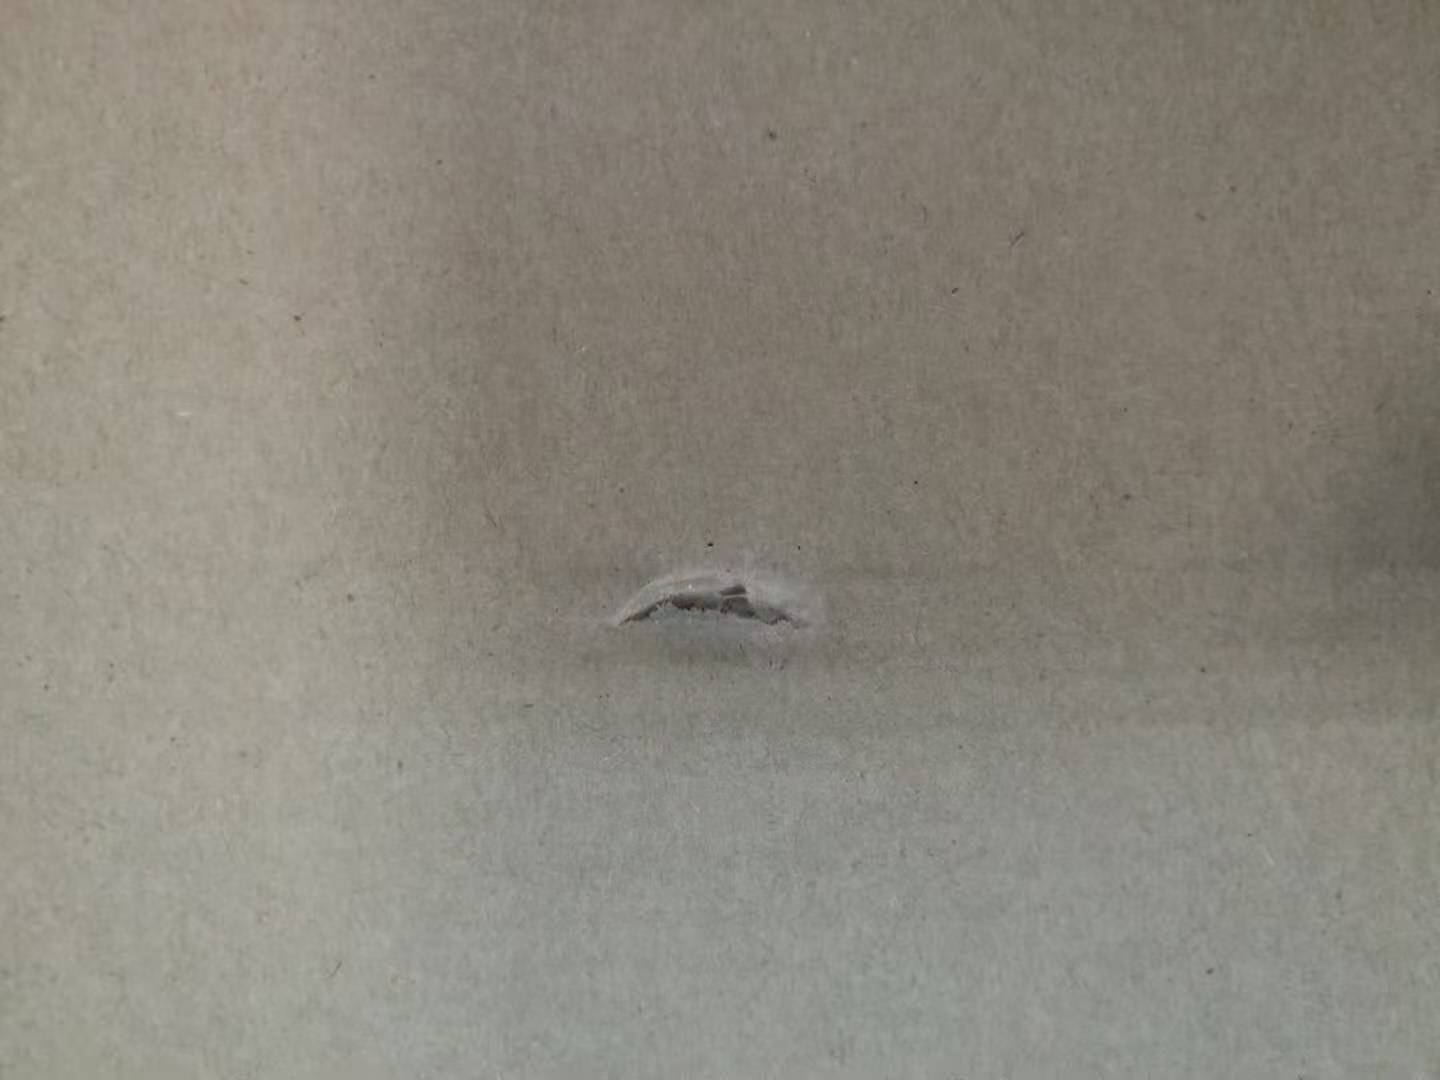defect: (575, 535, 859, 675)
